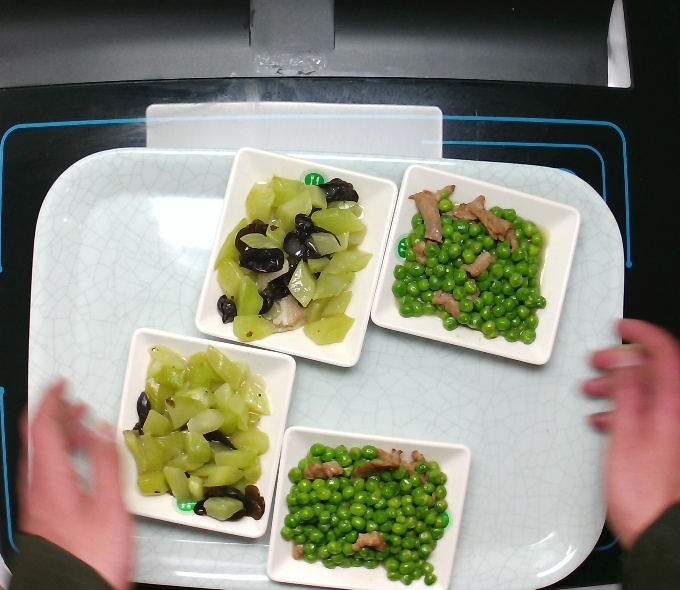wcq-CanDouRouSi: (388, 182, 549, 350), (278, 439, 452, 589)
wcq-WoSunKuai: (212, 172, 376, 349), (120, 342, 277, 525)
